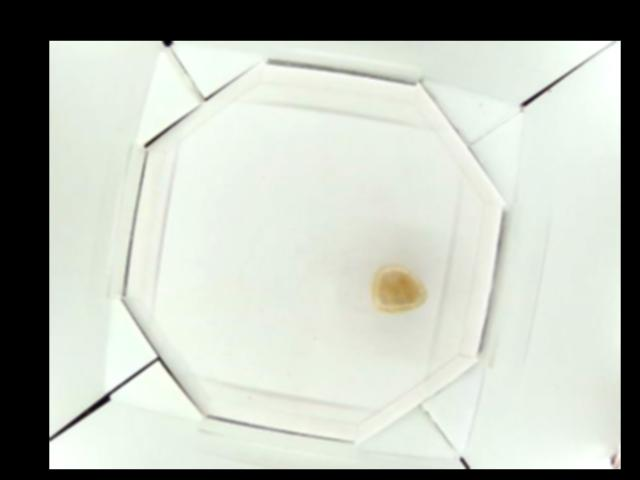Pebble: (375, 268, 429, 312)
